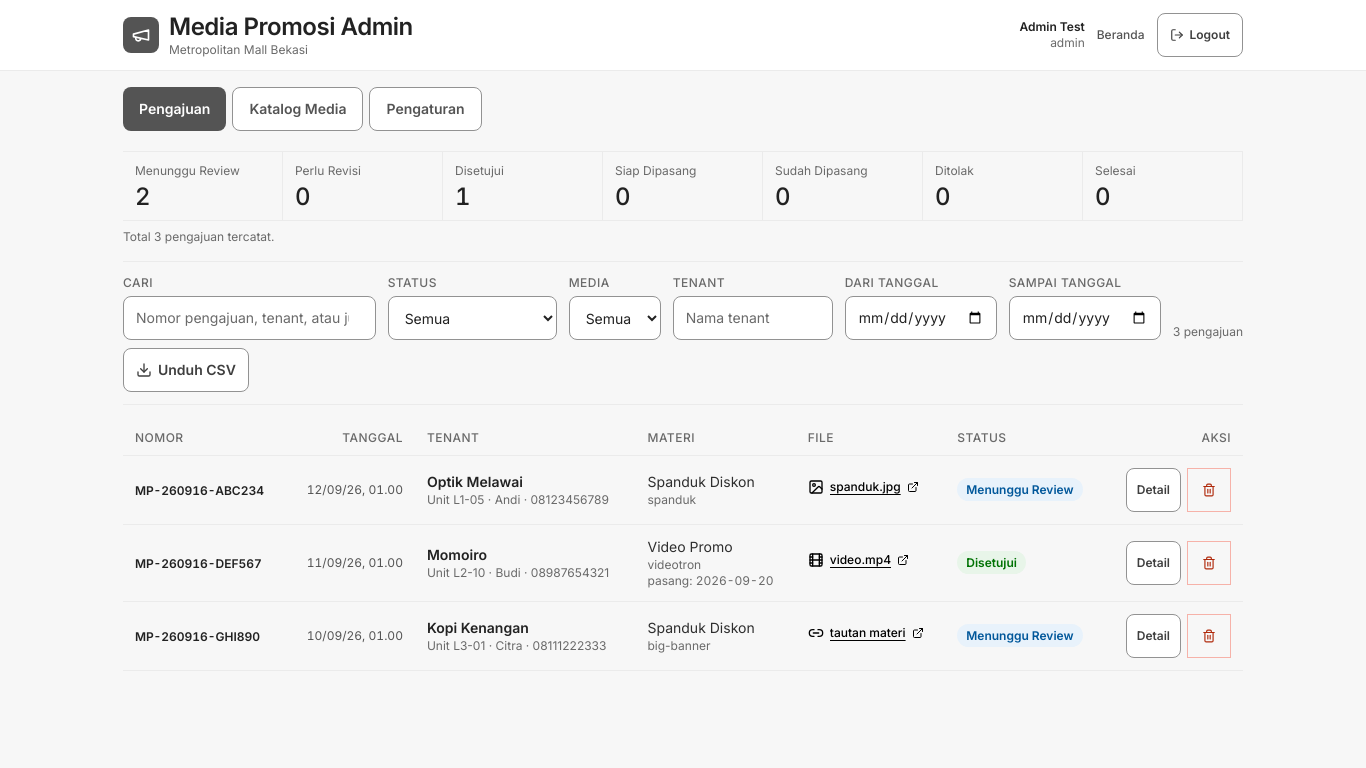
Test case: AdminDashboardPage › modal detail pengajuan bertautan menampilkan URL penuh
Expected: the text "Kopi Kenangan" is shown, 427,618 -> 529,636
Step 1. Click the button "Detail" in the row of "MP-260916-GHI890" → click(1153, 636), box 1126,614 -> 1181,658
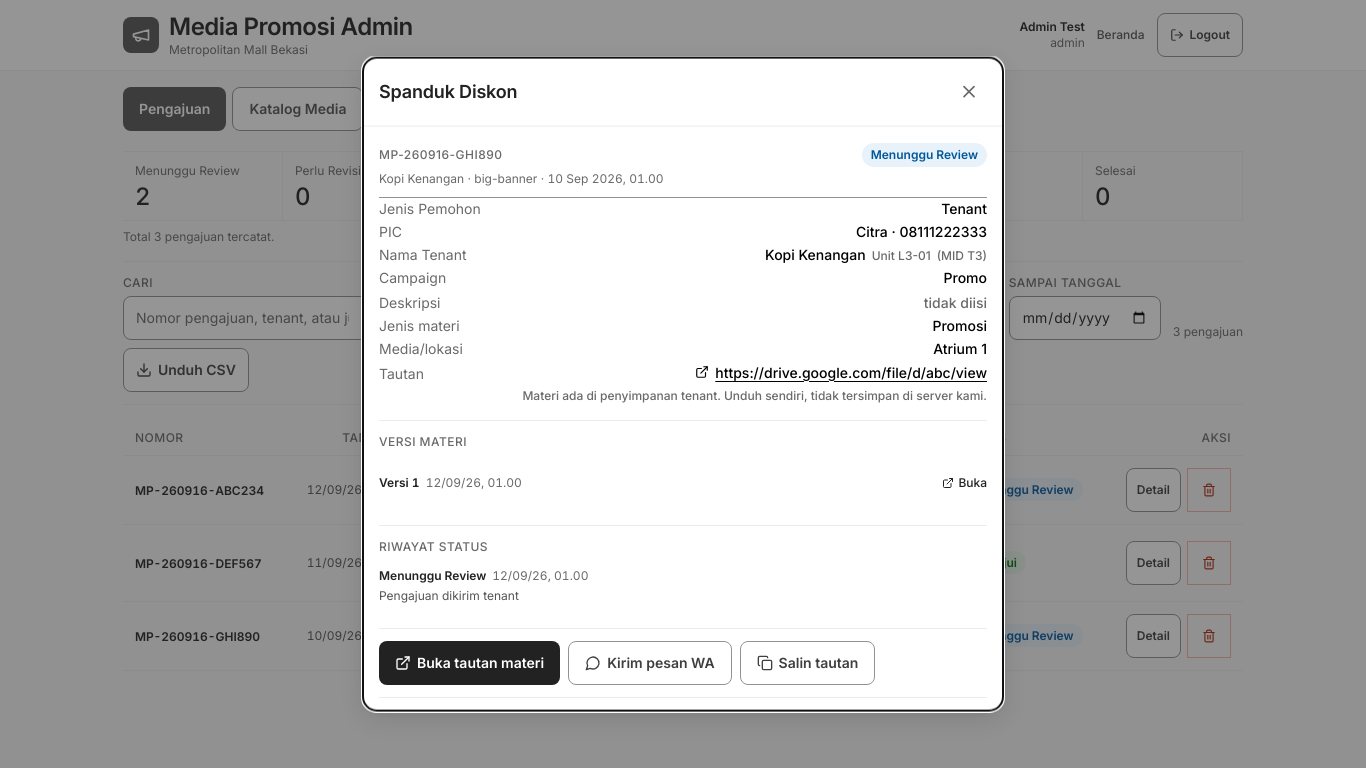
Now the text "tidak tersimpan di server kami" is shown, box 522,388 -> 987,403
